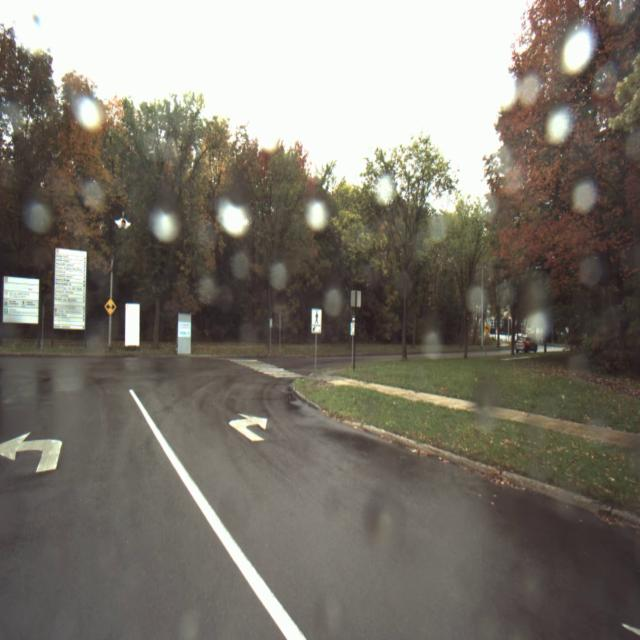car: (514, 335, 540, 356)
